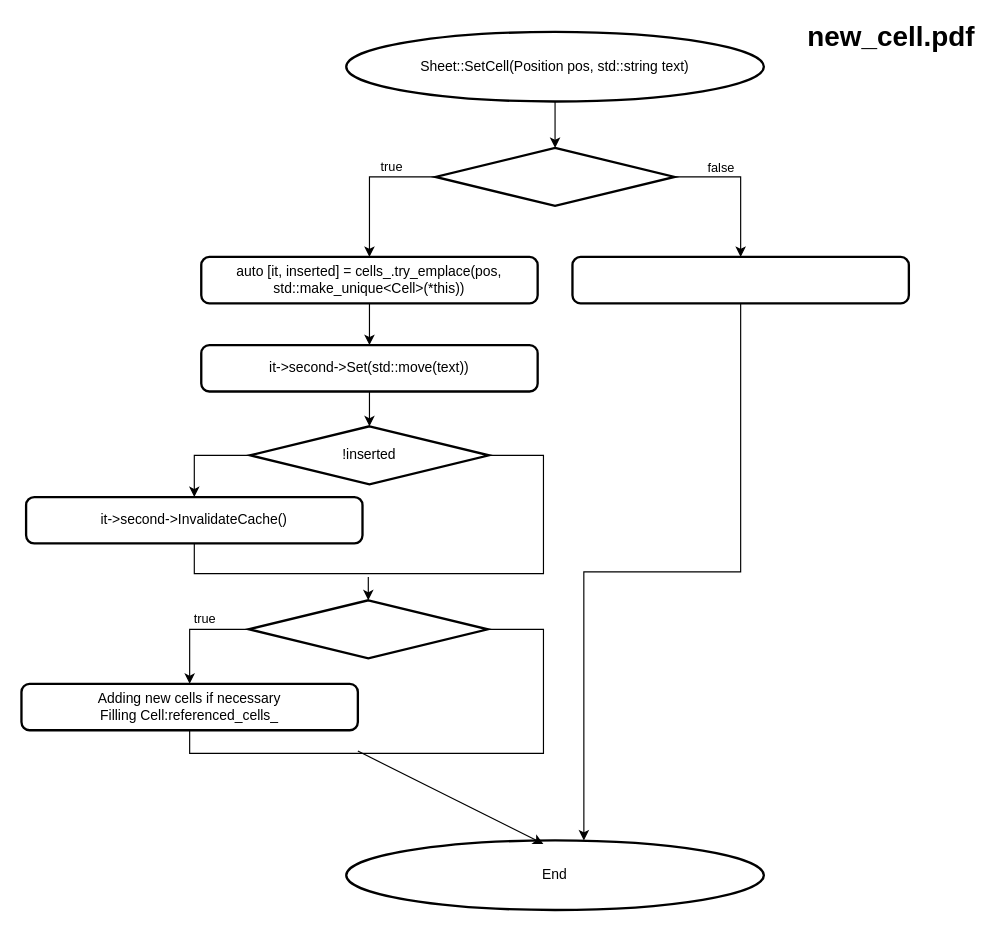
Some shapes in this 994 by 930 pixel diagram are drawn without their labels. The shapes that lost their labels are listed below. From the top down, each one's centre as x and y in pixels, then its label:
the point at 554,176: pos.IsValid()
the point at 740,279: throw InvalidPositionException("Position is invalid")
the point at 367,629: text[0] == FORMULA_SIGN
